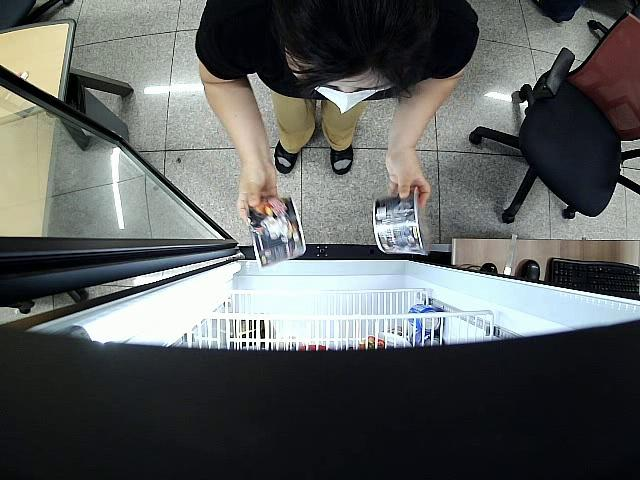00_hand: (237, 163, 279, 229), (385, 149, 432, 207)
07_buldak_L: (243, 195, 308, 268), (373, 189, 429, 257)
